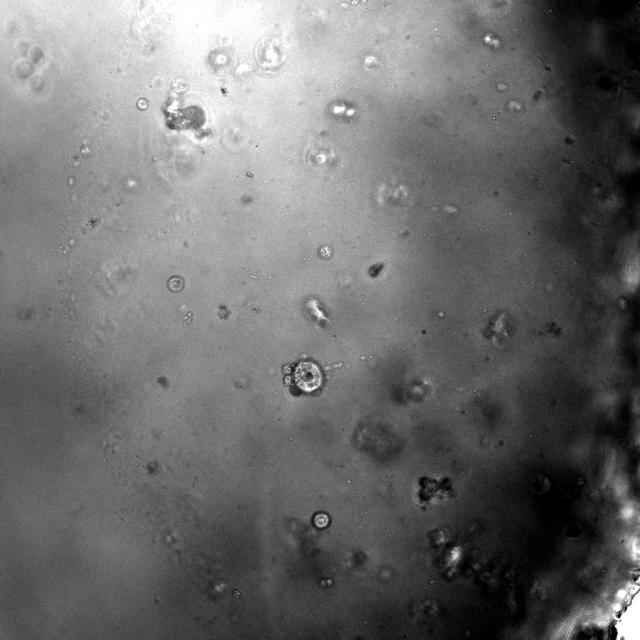organoid: (429, 522, 521, 614), (162, 78, 213, 142), (282, 358, 326, 396), (413, 477, 457, 510), (311, 511, 331, 530), (167, 274, 184, 292), (317, 244, 334, 260), (368, 262, 384, 277), (136, 97, 149, 110)
